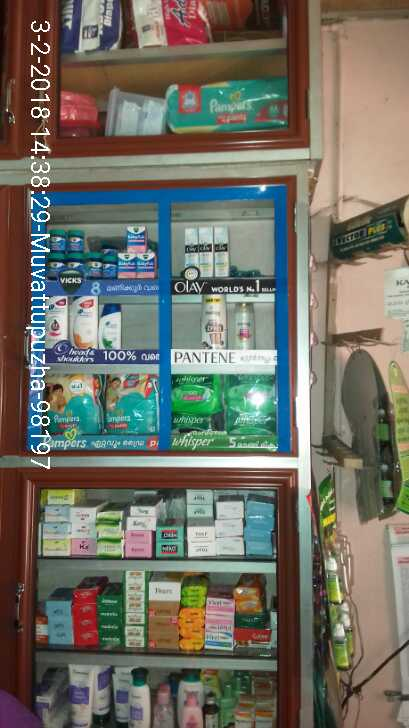vicks: (44, 221, 159, 285)
